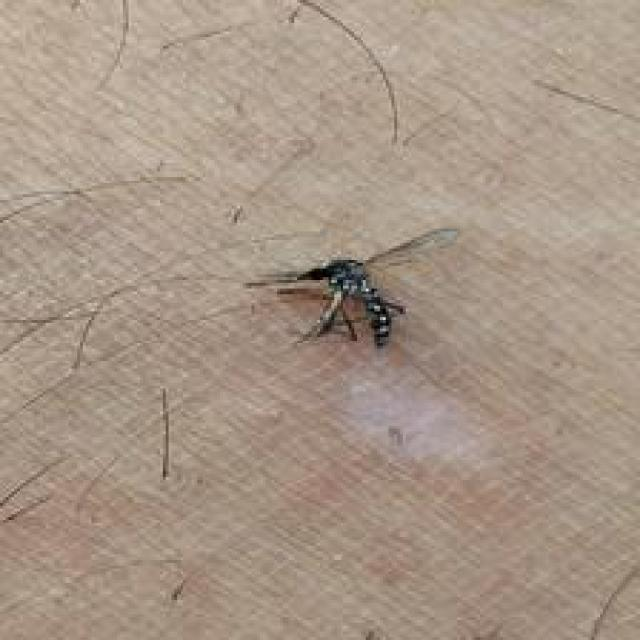Aedes albopictus: (243, 224, 460, 350)
